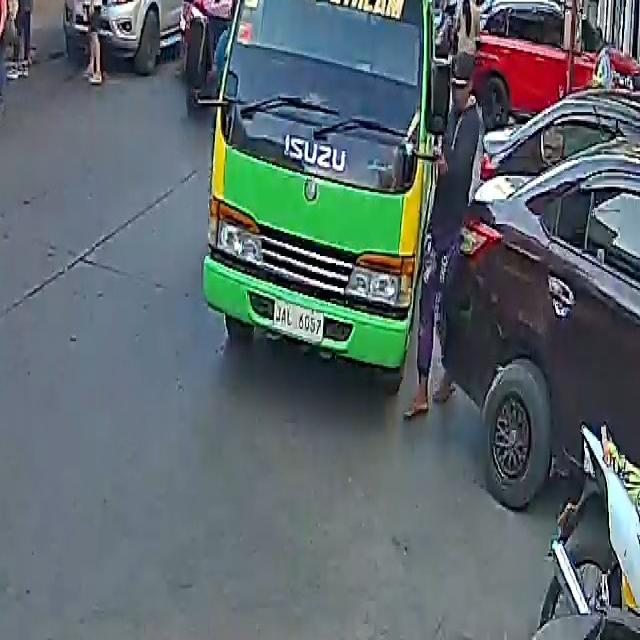car: (454, 156, 640, 508), (468, 0, 629, 130), (72, 0, 194, 75)
